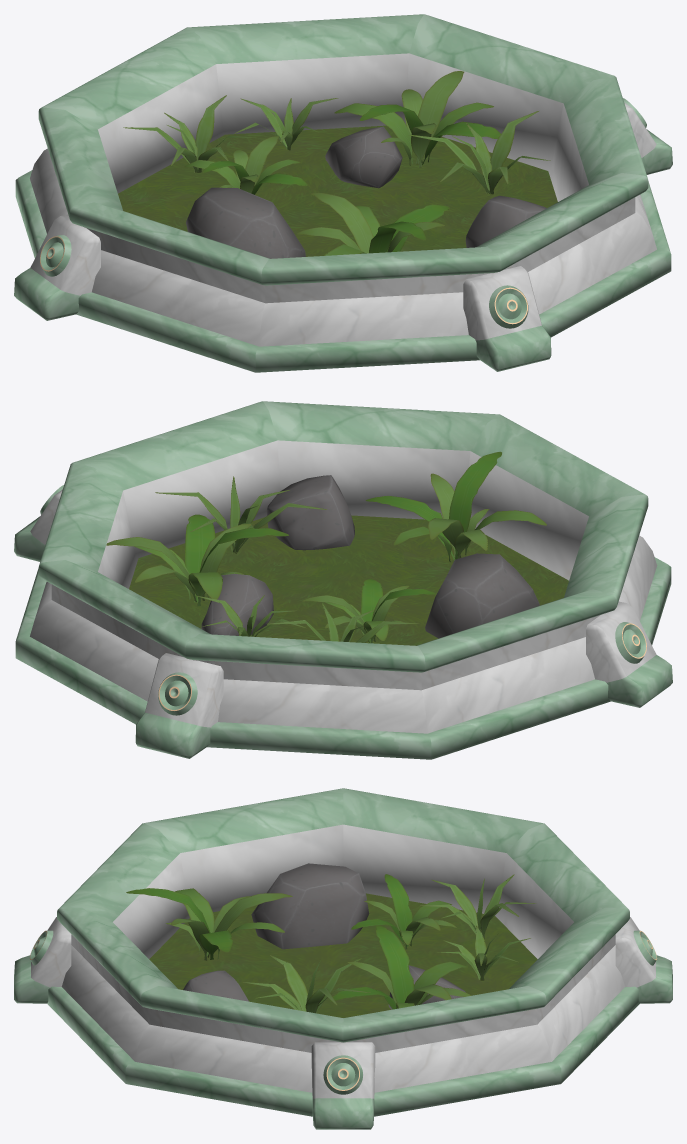
Rendered from TreePotB.glb.
3 views of the same model, one above another, from view 1: azimuth 30°, elevation 25°; view 2: azimuth 150°, elevation 25°; view 3: azimuth 270°, elevation 25° (orthographic). The views are drawn at different scales.
Parts seen in each view (by area): view 1: Pool03LOW.002, Pool03LOW.003, plant02 (×3), plant04 (×3), stylizedRock03, stylizedRock02, stylizedRock01; view 2: Pool03LOW.002, Pool03LOW.003, plant02 (×3), stylizedRock03, stylizedRock01, plant04 (×3), stylizedRock02; view 3: Pool03LOW.002, Pool03LOW.003, plant02 (×3), stylizedRock03, plant04 (×3), stylizedRock01, stylizedRock02.
Part boxes in pixels (x1,y1,x2,y2): Pool03LOW.002: (14, 14, 672, 372); Pool03LOW.003: (118, 125, 557, 256); plant02 (×3): (184, 71, 500, 255); plant04 (×3): (123, 95, 550, 194); stylizedRock03: (186, 187, 305, 258); stylizedRock02: (325, 126, 402, 188); stylizedRock01: (465, 195, 546, 247); Pool03LOW.002: (14, 401, 672, 759); Pool03LOW.003: (129, 515, 568, 645); plant02 (×3): (106, 451, 546, 643); stylizedRock03: (425, 553, 539, 638); stylizedRock01: (266, 475, 354, 550); plant04 (×3): (155, 476, 418, 642); stylizedRock02: (201, 573, 273, 635); Pool03LOW.002: (14, 788, 672, 1129); Pool03LOW.003: (149, 893, 537, 1017); plant02 (×3): (126, 874, 470, 1009); stylizedRock03: (251, 863, 369, 949); plant04 (×3): (243, 874, 536, 1013); stylizedRock01: (183, 970, 248, 1001); stylizedRock02: (388, 965, 465, 1009).
Size of what is drawn, in the model's own units: 7.98 by 1.5 by 7.98.
Materials: 8 (7 with a texture image).
